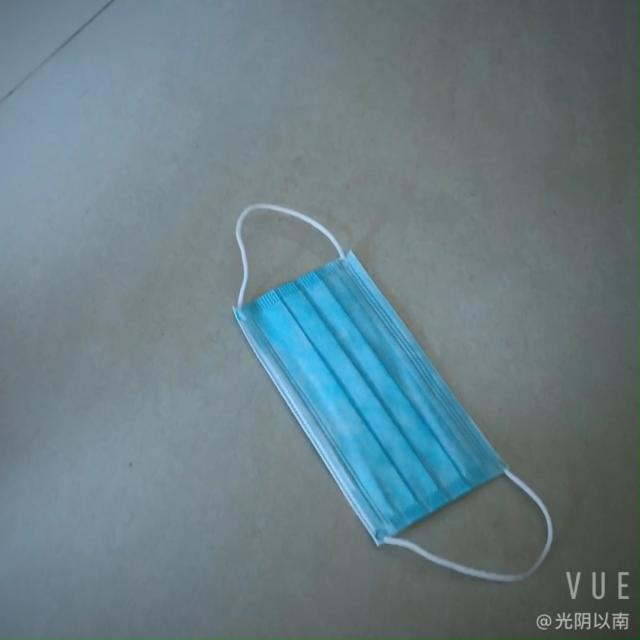face mask: (230, 238, 510, 550)
